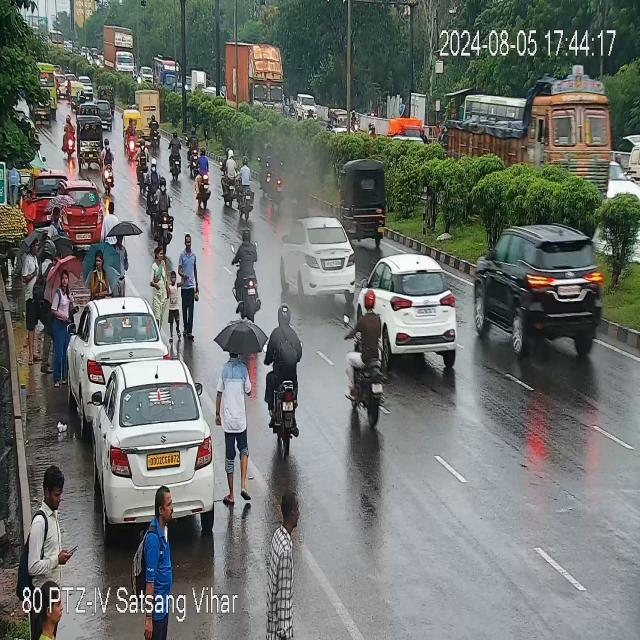2-wheelers: (260, 485, 312, 640), (345, 294, 388, 434), (263, 309, 305, 428), (234, 214, 264, 316), (150, 175, 174, 248), (235, 154, 256, 218), (195, 147, 214, 216), (220, 147, 238, 214), (166, 129, 184, 184), (98, 137, 115, 194), (61, 111, 77, 159), (136, 141, 150, 193), (148, 113, 161, 154)
auto: (341, 160, 388, 240), (78, 116, 103, 168), (120, 106, 144, 146), (98, 83, 116, 112)
bus: (30, 61, 58, 114), (151, 58, 179, 86), (48, 30, 64, 53)
car: (76, 323, 218, 533), (474, 223, 605, 361), (68, 296, 169, 427), (351, 252, 460, 370), (282, 216, 358, 304), (44, 181, 105, 255), (21, 173, 72, 230), (294, 91, 320, 126), (95, 100, 115, 131), (138, 66, 154, 85)
pedestrian: (21, 466, 79, 638), (132, 488, 178, 640), (214, 352, 251, 508), (44, 250, 79, 384), (20, 234, 44, 368), (177, 235, 200, 338), (110, 229, 130, 301), (151, 246, 167, 328), (91, 246, 108, 310), (165, 263, 178, 344), (101, 197, 120, 245)
truck: (442, 74, 612, 192), (224, 39, 284, 119), (102, 24, 135, 78), (134, 90, 163, 142)
